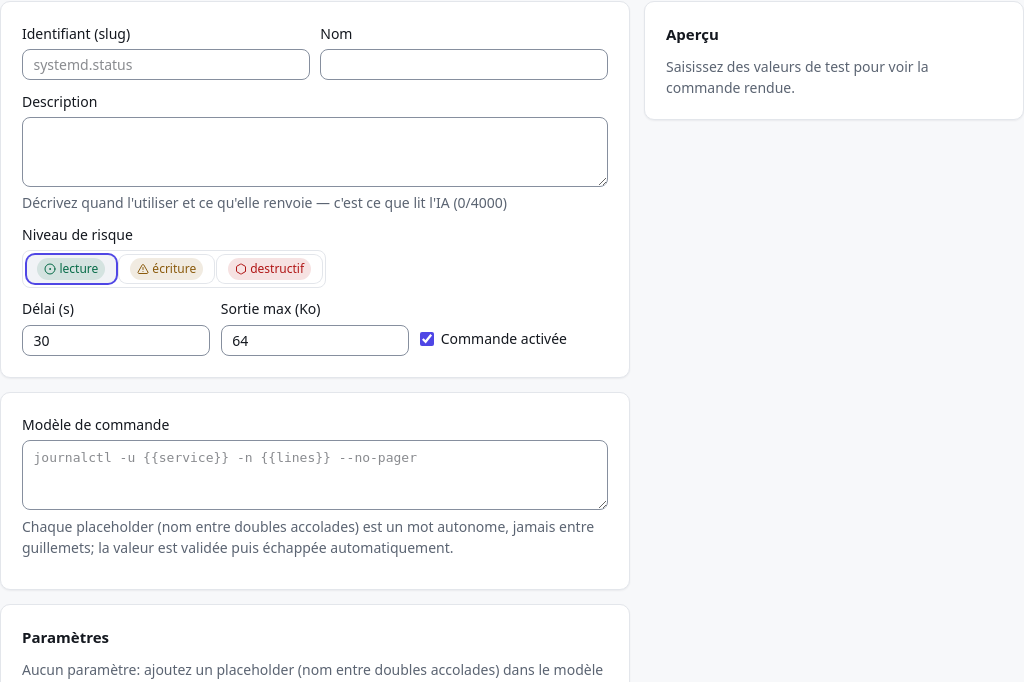
Test: régression: réponse du linter avec des valeurs null › l'éditeur ne plante pas quand placeholders / errors / warnings valent null
The width and height of the screenshot is (1024, 682).
Click the text box labelled "Modèle de commande" at (315, 475), box [22, 440, 608, 510]
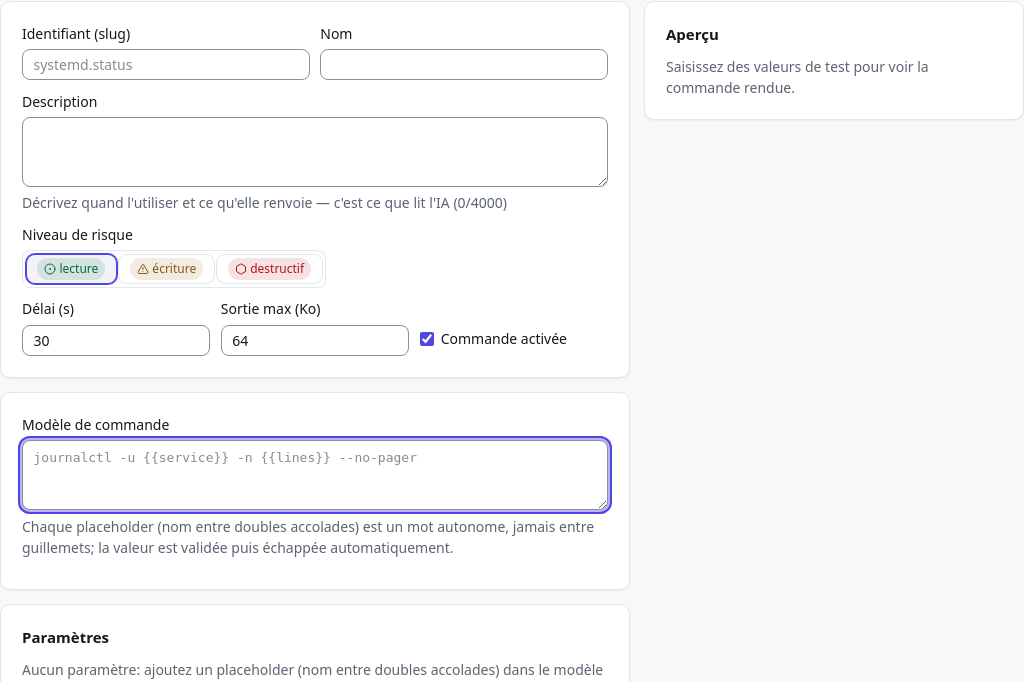
Type keys "uptime"
(page scrolled)
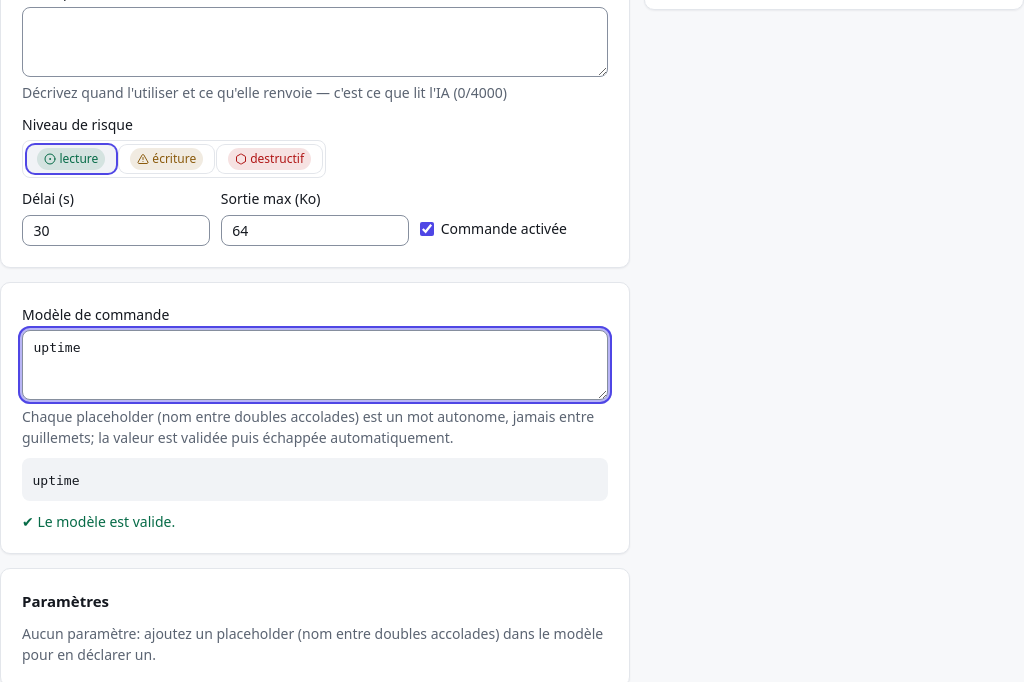
Expected: the text "Aucun paramètre" is shown, [22, 624, 603, 664]
Expected: the text "✔ Le modèle est valide." is shown, [22, 512, 175, 531]
